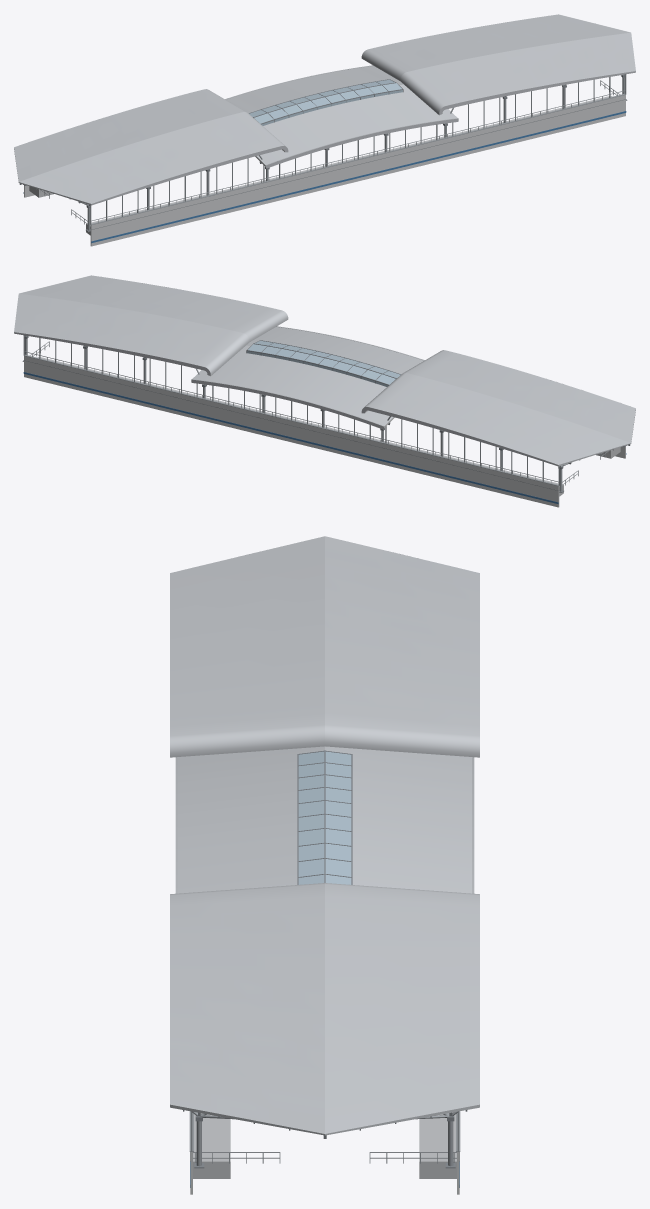
The picture shows the model from 3 angles, top to bottom: view 1: azimuth 30°, elevation 25°; view 2: azimuth 150°, elevation 25°; view 3: azimuth 270°, elevation 25°; orthographic projection. The views are drawn at different scales.
Visible parts, largest first — view 1: BL36; view 2: BL36; view 3: BL36.
Part boxes in pixels (<box>): BL36: <box>14,14,635,246</box>; BL36: <box>14,275,635,507</box>; BL36: <box>170,536,479,1194</box>.
Bounding box in the file's own units: 126 × 12.7 × 27.6.
